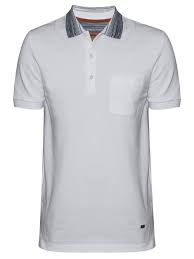T-Shirt: (11, 3, 188, 256)
